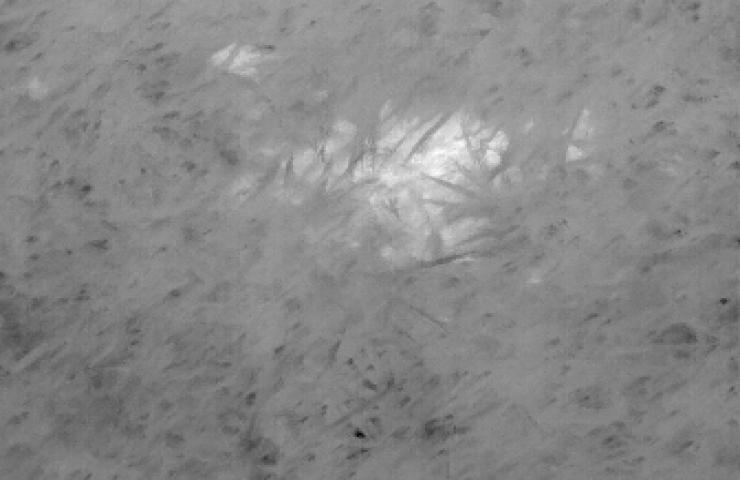landmines: (255, 93, 518, 269)
